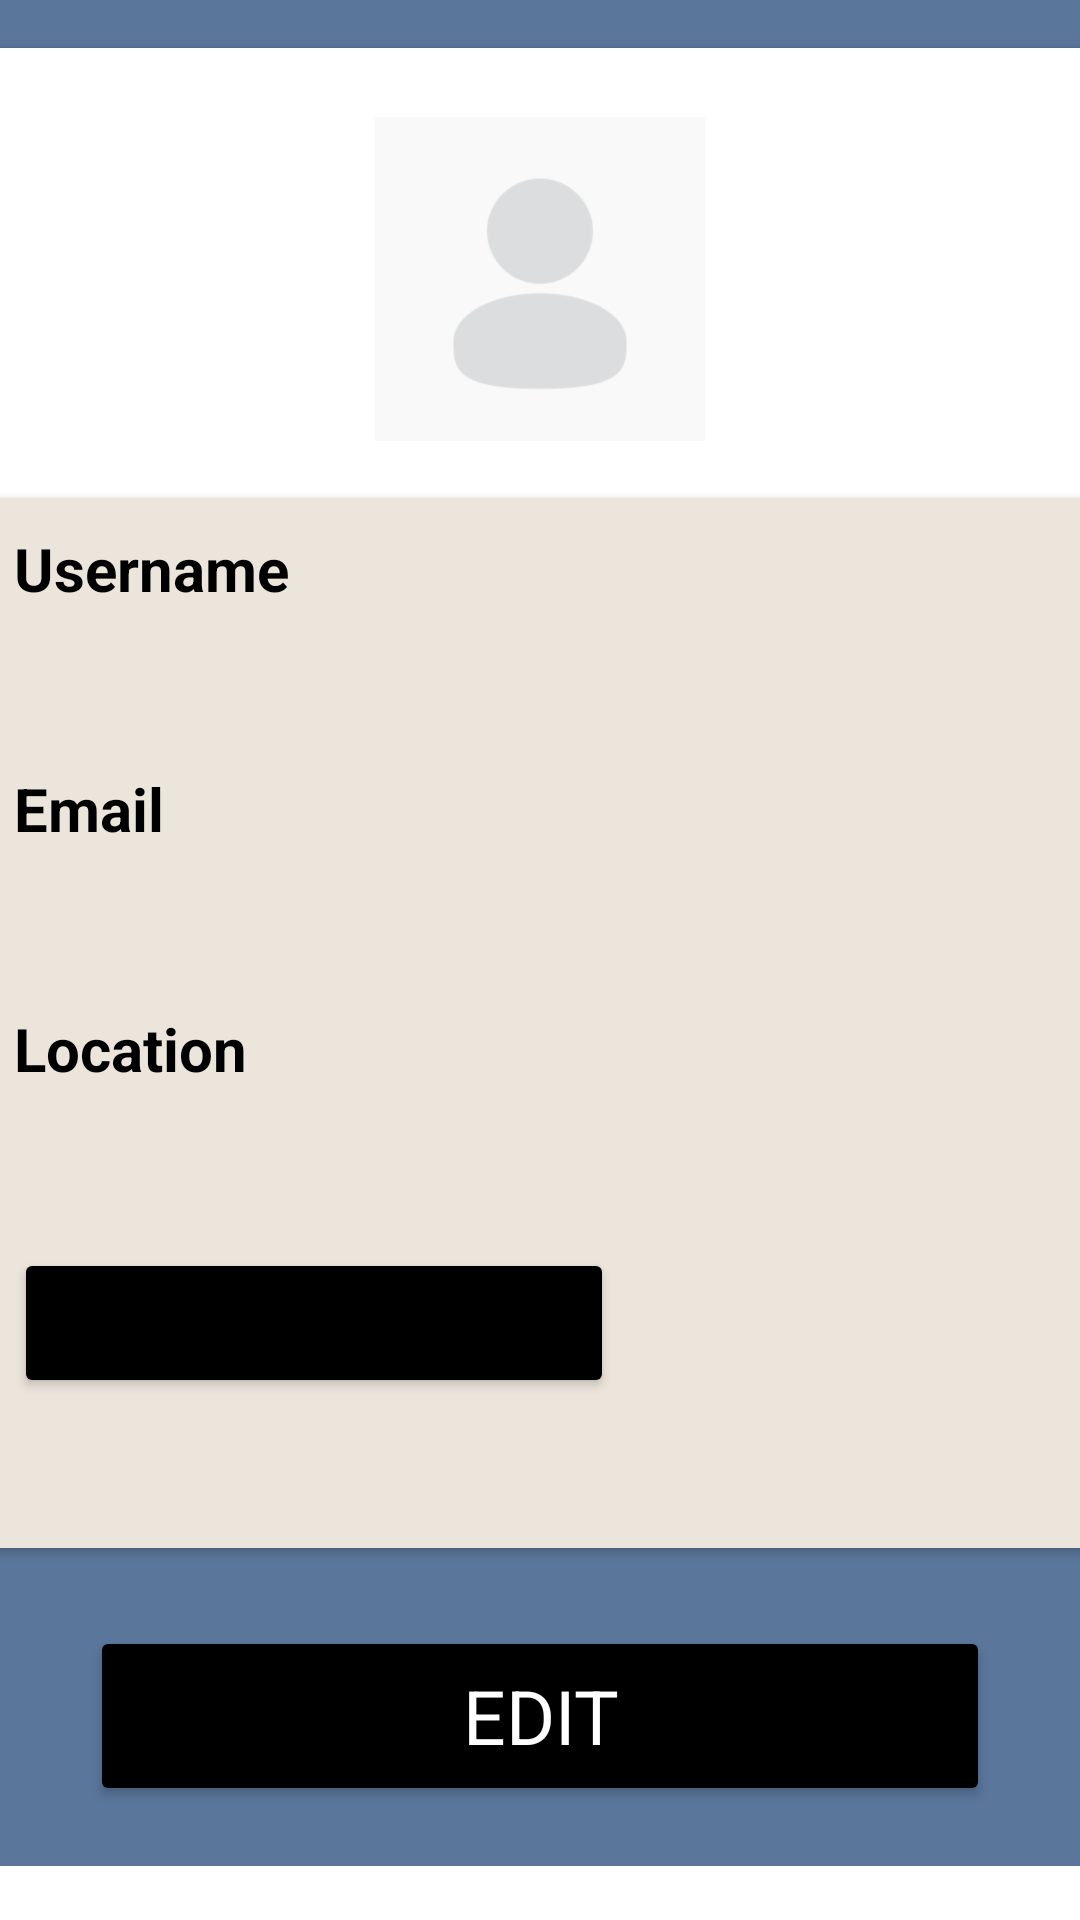

Where to tap for icons on this 1080×1920 app screen, as (x,y):
Profile Picture: (540,284)
